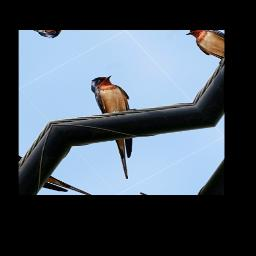Swallow: (53, 71, 181, 180)
